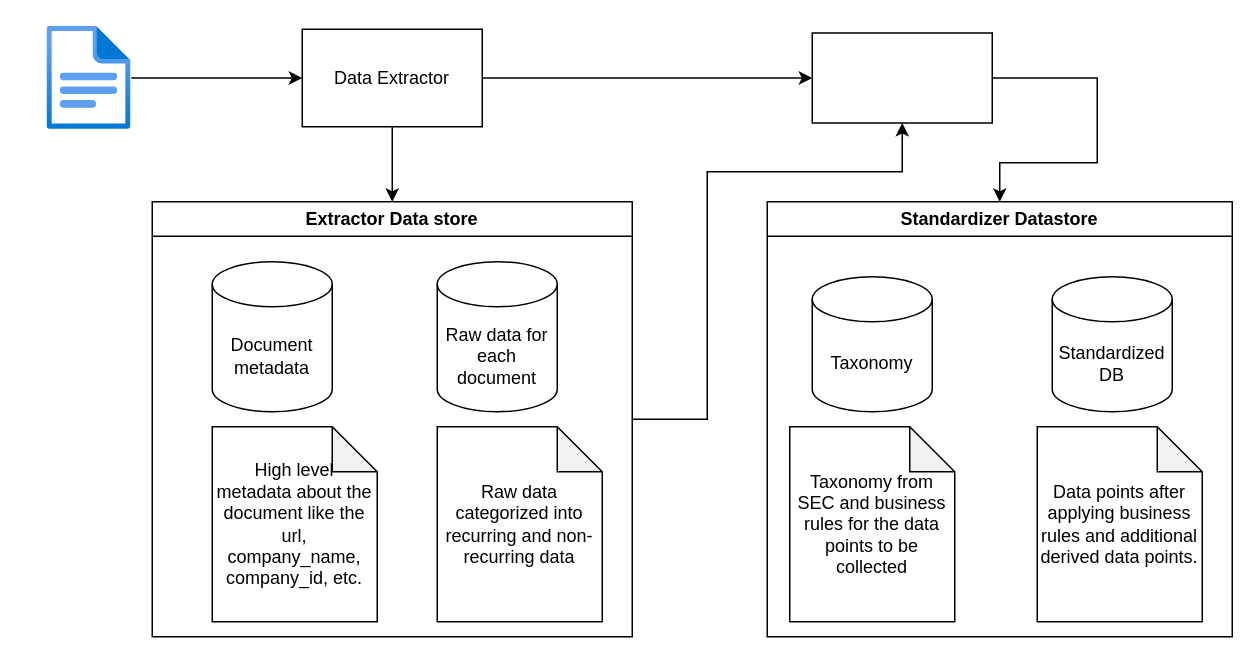
The diagram is 1259 pixels wide and 663 high, and some of its shapes have lost their labels. The shapes that lost their labels are listed below. From the top down, each one's centre as x and y in pixels, then its label:
At point 88,77: "Input Document".
At point 901,77: "Data standardizer".
